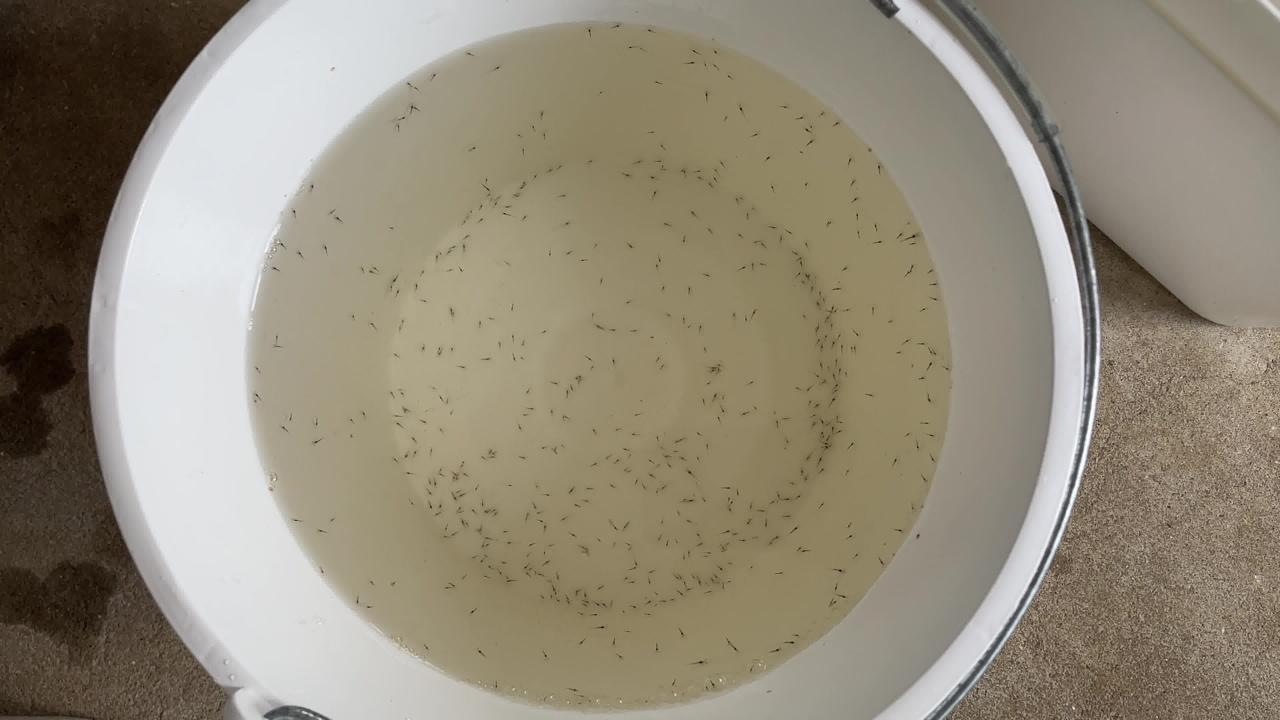shrimp: (494, 66, 506, 74), (467, 50, 479, 58), (611, 657, 623, 665), (608, 642, 620, 650), (625, 627, 637, 635), (654, 645, 666, 653), (694, 659, 706, 667), (675, 631, 687, 639), (731, 646, 743, 654), (725, 641, 737, 649), (576, 640, 588, 648), (595, 623, 607, 631), (591, 609, 603, 617), (578, 610, 590, 618), (604, 604, 616, 612), (600, 604, 612, 612), (593, 601, 605, 609), (582, 596, 594, 604), (580, 604, 592, 612), (582, 591, 594, 599), (574, 589, 586, 597), (564, 595, 576, 603), (566, 602, 578, 610), (557, 600, 569, 608), (537, 593, 549, 601), (546, 593, 558, 601), (551, 587, 563, 595), (554, 575, 566, 583), (547, 580, 559, 588), (537, 573, 549, 581), (532, 571, 544, 579), (543, 560, 555, 568), (524, 568, 536, 576), (522, 564, 534, 572), (524, 574, 536, 582), (505, 579, 517, 587), (502, 574, 514, 582), (495, 572, 507, 580), (499, 562, 511, 570), (487, 567, 499, 575), (484, 575, 496, 583), (462, 575, 474, 583), (449, 580, 461, 588), (444, 586, 456, 594), (471, 607, 483, 615), (477, 648, 489, 656), (538, 648, 550, 656), (478, 558, 490, 566), (483, 554, 495, 562), (472, 553, 484, 561), (482, 543, 494, 551), (477, 543, 489, 551), (483, 538, 495, 546), (478, 528, 490, 536), (473, 528, 485, 536), (449, 531, 461, 539), (445, 535, 457, 543), (442, 526, 454, 534), (456, 523, 468, 531), (462, 522, 474, 530), (491, 513, 503, 521), (490, 509, 502, 517), (484, 509, 496, 517), (477, 502, 489, 510), (473, 487, 485, 495), (597, 583, 609, 591), (618, 607, 630, 615), (627, 604, 639, 612), (641, 610, 653, 618), (641, 600, 653, 608), (649, 602, 661, 610), (656, 598, 668, 606), (667, 597, 679, 605), (652, 592, 664, 600), (627, 580, 639, 588), (622, 576, 634, 584), (647, 580, 659, 588), (647, 569, 659, 577), (631, 559, 643, 567), (629, 566, 641, 574), (677, 591, 689, 599), (670, 576, 682, 584), (677, 573, 689, 581), (680, 584, 692, 592), (685, 585, 697, 593), (701, 590, 713, 598), (715, 586, 727, 594), (725, 580, 737, 588), (696, 581, 708, 589), (687, 574, 699, 582), (707, 578, 719, 586), (710, 575, 722, 583), (714, 567, 726, 575), (723, 561, 735, 569), (676, 553, 688, 561), (687, 552, 699, 560), (673, 540, 685, 548), (664, 540, 676, 548), (656, 536, 668, 544), (658, 521, 670, 529), (701, 555, 713, 563), (701, 550, 713, 558), (695, 542, 707, 550), (694, 534, 706, 542), (685, 516, 697, 524), (675, 512, 687, 520), (717, 546, 729, 554), (721, 545, 733, 553), (718, 528, 730, 536), (728, 531, 740, 539), (738, 538, 750, 546), (751, 536, 763, 544), (767, 543, 779, 551), (768, 538, 780, 546), (790, 528, 802, 536), (783, 515, 795, 523), (764, 523, 776, 531), (756, 509, 768, 517), (745, 519, 757, 527), (748, 503, 760, 511), (774, 569, 786, 577), (747, 563, 759, 571), (802, 549, 814, 557), (794, 546, 806, 554), (851, 552, 863, 560), (846, 534, 858, 542), (844, 521, 856, 529), (814, 504, 826, 512), (795, 495, 807, 503), (782, 497, 794, 505), (774, 491, 786, 499), (769, 499, 781, 507), (788, 481, 800, 489), (802, 476, 814, 484), (796, 470, 808, 478), (816, 468, 828, 476), (815, 461, 827, 469), (804, 455, 816, 463), (821, 444, 833, 452), (822, 439, 834, 447), (822, 434, 834, 442), (818, 433, 830, 441), (815, 429, 827, 437), (834, 433, 846, 441), (826, 430, 838, 438), (836, 421, 848, 429), (831, 415, 843, 423), (822, 421, 834, 429), (819, 420, 831, 428), (810, 424, 822, 432), (810, 415, 822, 423), (813, 404, 825, 412), (805, 401, 817, 409), (805, 385, 817, 393), (794, 387, 806, 395), (827, 399, 839, 407), (833, 388, 845, 396), (833, 382, 845, 390), (840, 371, 852, 379), (833, 368, 845, 376), (829, 362, 841, 370), (830, 375, 842, 383), (824, 368, 836, 376), (816, 362, 828, 370), (811, 371, 823, 379), (822, 379, 834, 387), (847, 330, 859, 338), (852, 347, 864, 355), (847, 346, 859, 354), (837, 345, 849, 353), (834, 336, 846, 344), (829, 344, 841, 352), (818, 346, 830, 354), (824, 335, 836, 343), (815, 338, 827, 346), (828, 328, 840, 336), (814, 327, 826, 335), (801, 316, 813, 324), (843, 310, 855, 318), (823, 318, 835, 326), (831, 308, 843, 316), (827, 305, 839, 313), (820, 300, 832, 308), (814, 291, 826, 299), (809, 303, 821, 311), (808, 289, 820, 297), (800, 281, 812, 289), (804, 274, 816, 282), (794, 273, 806, 281), (799, 266, 811, 274), (796, 258, 808, 266), (791, 252, 803, 260), (802, 243, 814, 251), (782, 439, 794, 447), (784, 417, 796, 425), (771, 421, 783, 429), (740, 412, 752, 420), (750, 406, 762, 414), (751, 380, 763, 388), (733, 487, 745, 495), (727, 507, 739, 515), (725, 502, 737, 510), (725, 498, 737, 506), (722, 488, 734, 496), (703, 497, 715, 505), (686, 500, 698, 508), (678, 497, 690, 505), (628, 547, 640, 555), (626, 542, 638, 550), (609, 544, 621, 552), (596, 537, 608, 545), (584, 552, 596, 560), (579, 545, 591, 553), (568, 536, 580, 544), (561, 521, 573, 529), (623, 522, 635, 530), (612, 525, 624, 533), (548, 540, 560, 548), (543, 551, 555, 559), (526, 552, 538, 560), (529, 541, 541, 549), (506, 540, 518, 548), (501, 528, 513, 536), (537, 526, 549, 534), (537, 519, 549, 527), (537, 511, 549, 519), (531, 504, 543, 512), (520, 518, 532, 526), (509, 483, 521, 491), (542, 493, 554, 501), (533, 481, 545, 489), (573, 503, 585, 511), (580, 499, 592, 507), (585, 488, 597, 496), (568, 489, 580, 497), (610, 481, 622, 489), (590, 460, 602, 468), (605, 453, 617, 461), (612, 461, 624, 469), (624, 457, 636, 465), (623, 446, 635, 454), (624, 468, 636, 476), (629, 479, 641, 487), (638, 483, 650, 491), (652, 490, 664, 498), (660, 486, 672, 494), (647, 474, 659, 482), (656, 465, 668, 473), (650, 458, 662, 466), (686, 471, 698, 479), (692, 458, 704, 466), (704, 446, 716, 454), (696, 431, 708, 439), (674, 438, 686, 446), (672, 447, 684, 455), (677, 455, 689, 463), (652, 430, 664, 438), (656, 442, 668, 450), (659, 451, 671, 459), (668, 463, 680, 471), (629, 431, 641, 439), (613, 425, 625, 433), (592, 428, 604, 436), (632, 413, 644, 421), (722, 415, 734, 423), (720, 405, 732, 413), (717, 394, 729, 402), (711, 418, 723, 426), (710, 394, 722, 402), (700, 399, 712, 407), (703, 384, 715, 392), (715, 371, 727, 379), (707, 368, 719, 376), (708, 366, 720, 374), (714, 363, 726, 371), (749, 310, 761, 318), (740, 316, 752, 324), (729, 313, 741, 321), (700, 344, 712, 352), (695, 326, 707, 334), (684, 326, 696, 334), (677, 319, 689, 327), (664, 313, 676, 321), (658, 363, 670, 371), (653, 357, 665, 365), (608, 359, 620, 367), (585, 365, 597, 373), (584, 354, 596, 362), (576, 382, 588, 390), (574, 372, 586, 380), (569, 382, 581, 390), (564, 390, 576, 398), (551, 378, 563, 386), (563, 414, 575, 422), (559, 416, 571, 424), (547, 408, 559, 416), (559, 441, 571, 449), (549, 447, 561, 455), (541, 445, 553, 453), (522, 449, 534, 457), (513, 427, 525, 435), (520, 412, 532, 420), (531, 403, 543, 411), (522, 388, 534, 396), (518, 453, 530, 461), (485, 456, 497, 464), (491, 451, 503, 459), (487, 448, 499, 456), (480, 455, 492, 463), (460, 471, 472, 479), (469, 512, 481, 520), (459, 510, 471, 518), (454, 505, 466, 513), (460, 493, 472, 501), (457, 486, 469, 494), (450, 496, 462, 504), (456, 462, 468, 470), (450, 471, 462, 479), (450, 478, 462, 486), (433, 512, 445, 520), (438, 501, 450, 509), (426, 503, 438, 511), (425, 490, 437, 498), (423, 478, 435, 486), (427, 480, 439, 488), (439, 474, 451, 482), (433, 468, 445, 476), (407, 500, 419, 508), (408, 468, 420, 476), (390, 456, 402, 464), (426, 448, 438, 456), (412, 452, 424, 460), (397, 453, 409, 461), (412, 438, 424, 446), (435, 427, 447, 435), (412, 417, 424, 425), (396, 427, 408, 435), (404, 410, 416, 418), (397, 407, 409, 415), (392, 417, 404, 425), (389, 395, 401, 403), (397, 385, 409, 393), (399, 394, 411, 402), (430, 386, 442, 394), (436, 400, 448, 408), (443, 398, 455, 406), (449, 411, 461, 419), (759, 260, 771, 268), (750, 263, 762, 271), (740, 266, 752, 274), (703, 270, 715, 278), (687, 288, 699, 296), (632, 326, 644, 334), (611, 327, 623, 335), (590, 325, 602, 333), (582, 312, 594, 320), (623, 297, 635, 305), (657, 283, 669, 291), (655, 267, 667, 275), (653, 256, 665, 264), (626, 245, 638, 253), (678, 235, 690, 243), (668, 222, 680, 230), (691, 212, 703, 220), (703, 227, 715, 235), (731, 201, 743, 209), (740, 195, 752, 203), (744, 215, 756, 223), (737, 230, 749, 238), (754, 235, 766, 243), (759, 244, 771, 252), (776, 236, 788, 244), (783, 229, 795, 237), (766, 224, 778, 232), (706, 182, 718, 190), (711, 178, 723, 186), (714, 168, 726, 176), (715, 163, 727, 171), (695, 178, 707, 186), (692, 166, 704, 174), (676, 166, 688, 174), (649, 192, 661, 200), (626, 170, 638, 178), (647, 176, 659, 184), (663, 168, 675, 176), (659, 165, 671, 173), (652, 157, 664, 165), (660, 147, 672, 155), (649, 131, 661, 139), (635, 158, 647, 166), (595, 279, 607, 287), (585, 256, 597, 264), (591, 242, 603, 250), (562, 250, 574, 258), (545, 254, 557, 262), (562, 221, 574, 229), (538, 326, 550, 334), (520, 355, 532, 363), (516, 342, 528, 350), (509, 356, 521, 364), (506, 337, 518, 345), (496, 342, 508, 350), (483, 355, 495, 363), (459, 364, 471, 372), (506, 304, 518, 312), (488, 316, 500, 324), (476, 319, 488, 327), (445, 309, 457, 317), (448, 346, 460, 354), (433, 350, 445, 358), (415, 345, 427, 353), (390, 355, 402, 363), (396, 321, 408, 329), (367, 325, 379, 333), (347, 314, 359, 322), (395, 289, 407, 297), (389, 272, 401, 280), (384, 285, 396, 293), (370, 271, 382, 279), (370, 266, 382, 274), (358, 268, 370, 276), (420, 298, 432, 306), (408, 285, 420, 293), (415, 273, 427, 281), (444, 265, 456, 273), (455, 268, 467, 276), (505, 261, 517, 269), (461, 246, 473, 254), (464, 231, 476, 239), (448, 240, 460, 248), (447, 250, 459, 258), (433, 248, 445, 256), (432, 255, 444, 263), (514, 216, 526, 224), (560, 191, 572, 199), (587, 160, 599, 168), (556, 163, 568, 171), (546, 166, 558, 174), (532, 173, 544, 181), (518, 181, 530, 189), (512, 191, 524, 199), (504, 204, 516, 212), (505, 213, 517, 221), (474, 216, 486, 224), (457, 217, 469, 225), (465, 208, 477, 216), (477, 205, 489, 213), (492, 200, 504, 208), (493, 195, 505, 203), (484, 192, 496, 200), (483, 185, 495, 193), (483, 178, 495, 186), (465, 145, 477, 153), (518, 147, 530, 155), (541, 133, 553, 141), (541, 111, 553, 119), (529, 126, 541, 134), (515, 132, 527, 140), (428, 74, 440, 82), (406, 82, 418, 90), (410, 108, 422, 116), (405, 109, 417, 117), (400, 112, 412, 120), (395, 124, 407, 132), (334, 219, 346, 227), (327, 210, 339, 218), (308, 182, 320, 190), (290, 211, 302, 219), (280, 241, 292, 249), (270, 267, 282, 275), (296, 252, 308, 260), (323, 244, 335, 252), (270, 333, 282, 341), (273, 344, 285, 352), (253, 368, 265, 376), (252, 393, 264, 401), (251, 401, 263, 409), (283, 427, 295, 435), (285, 417, 297, 425), (311, 418, 323, 426), (308, 440, 320, 448), (346, 422, 358, 430), (356, 413, 368, 421), (294, 517, 306, 525), (318, 529, 330, 537), (327, 516, 339, 524), (317, 568, 329, 576), (355, 596, 367, 604), (366, 608, 378, 616), (368, 580, 380, 588), (383, 580, 395, 588), (421, 641, 433, 649), (491, 681, 503, 689), (564, 684, 576, 692), (574, 692, 586, 700), (580, 698, 592, 706), (670, 679, 682, 687), (703, 685, 715, 693), (706, 683, 718, 691), (766, 647, 778, 655), (785, 640, 797, 648), (790, 631, 802, 639), (743, 663, 755, 671), (832, 602, 844, 610), (826, 599, 838, 607), (840, 594, 852, 602), (829, 587, 841, 595), (828, 564, 840, 572), (874, 556, 886, 564), (894, 524, 906, 532), (908, 505, 920, 513), (919, 475, 931, 483), (925, 455, 937, 463), (914, 440, 926, 448), (887, 458, 899, 466), (840, 472, 852, 480), (847, 443, 859, 451), (903, 431, 915, 439), (925, 432, 937, 440), (922, 420, 934, 428), (925, 396, 937, 404), (940, 367, 952, 375), (915, 376, 927, 384), (923, 366, 935, 374), (932, 351, 944, 359), (927, 350, 939, 358), (916, 342, 928, 350), (903, 337, 915, 345), (894, 348, 906, 356), (863, 391, 875, 399), (905, 362, 917, 370), (916, 306, 928, 314), (929, 297, 941, 305), (930, 281, 942, 289), (926, 269, 938, 277), (905, 272, 917, 280), (905, 266, 917, 274), (887, 317, 899, 325), (869, 305, 881, 313), (836, 287, 848, 295), (837, 267, 849, 275), (910, 242, 922, 250), (908, 232, 920, 240), (895, 232, 907, 240), (872, 239, 884, 247), (873, 226, 885, 234), (873, 166, 885, 174), (854, 234, 866, 242), (852, 214, 864, 222), (851, 195, 863, 203), (846, 181, 858, 189), (845, 160, 857, 168), (824, 221, 836, 229), (800, 178, 812, 186), (765, 185, 777, 193), (762, 158, 774, 166), (793, 149, 805, 157), (806, 140, 818, 148), (803, 129, 815, 137), (806, 124, 818, 132), (831, 122, 843, 130), (817, 110, 829, 118), (795, 114, 807, 122), (776, 100, 788, 108), (751, 132, 763, 140), (738, 105, 750, 113), (720, 117, 732, 125), (702, 92, 714, 100), (723, 73, 735, 81), (712, 64, 724, 72), (713, 49, 725, 57), (703, 63, 715, 71), (690, 48, 702, 56), (687, 59, 699, 67), (652, 81, 664, 89), (640, 48, 652, 56), (647, 27, 659, 35), (629, 46, 641, 54), (615, 22, 627, 30), (583, 29, 595, 37), (597, 87, 609, 95), (387, 223, 399, 231), (649, 335, 661, 343), (879, 538, 891, 546)
